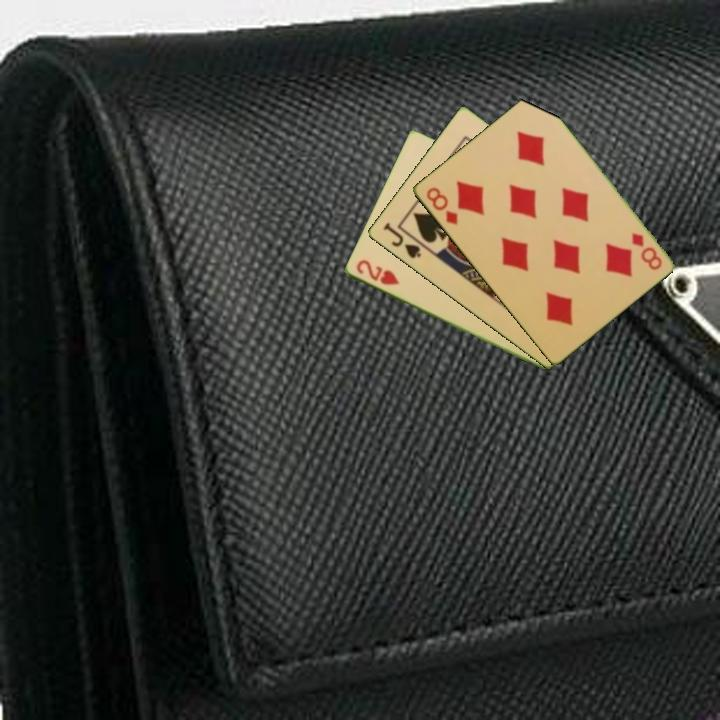2h: (352, 256, 402, 288)
8d: (422, 183, 460, 228), (627, 229, 665, 273)
Js: (379, 218, 424, 261)
